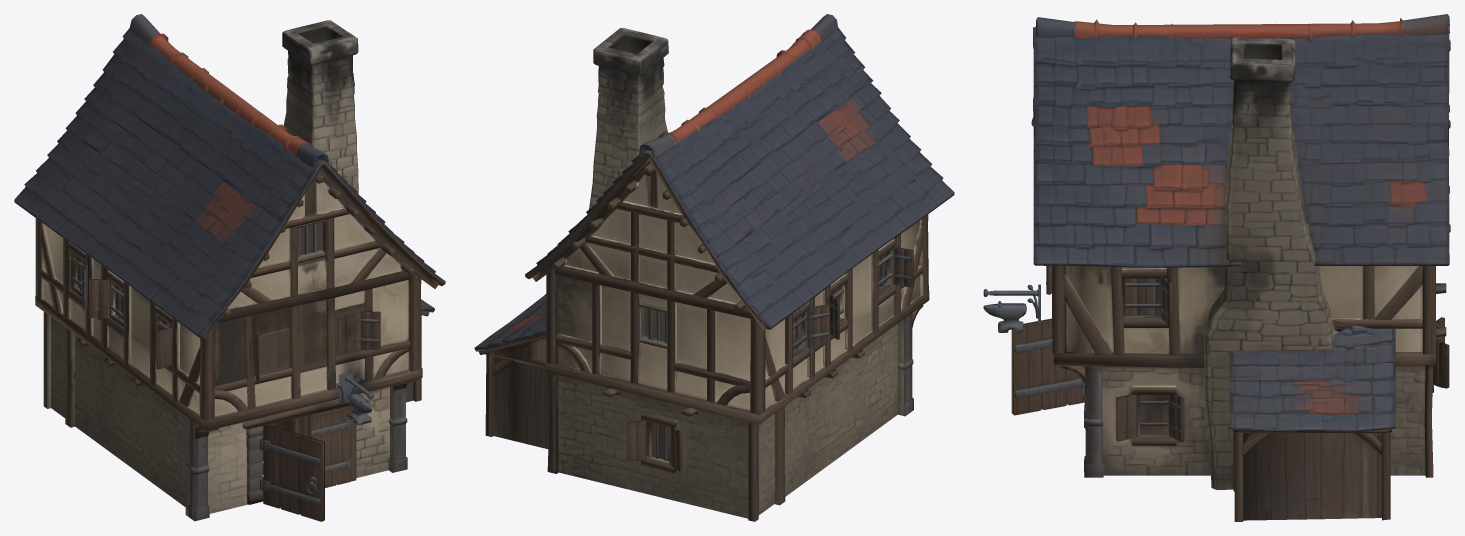
File: casa_medieval2.glb
3 views of the same model, side by side, from view 1: azimuth 30°, elevation 25°; view 2: azimuth 150°, elevation 25°; view 3: azimuth 270°, elevation 25° (orthographic). The views are drawn at different scales.
Parts seen in each view (by area): view 1: tripo_node_03cd1664-b759-4938-a139-f47bab10c88c; view 2: tripo_node_03cd1664-b759-4938-a139-f47bab10c88c; view 3: tripo_node_03cd1664-b759-4938-a139-f47bab10c88c.
Part boxes in pixels (x1,y1,x2,y2): tripo_node_03cd1664-b759-4938-a139-f47bab10c88c: (14,14,445,521); tripo_node_03cd1664-b759-4938-a139-f47bab10c88c: (474,14,954,521); tripo_node_03cd1664-b759-4938-a139-f47bab10c88c: (983,14,1450,521).
Bounding box in the file's own units: 0.8931 × 0.9995 × 0.9951.
1 material, 1 textured.
